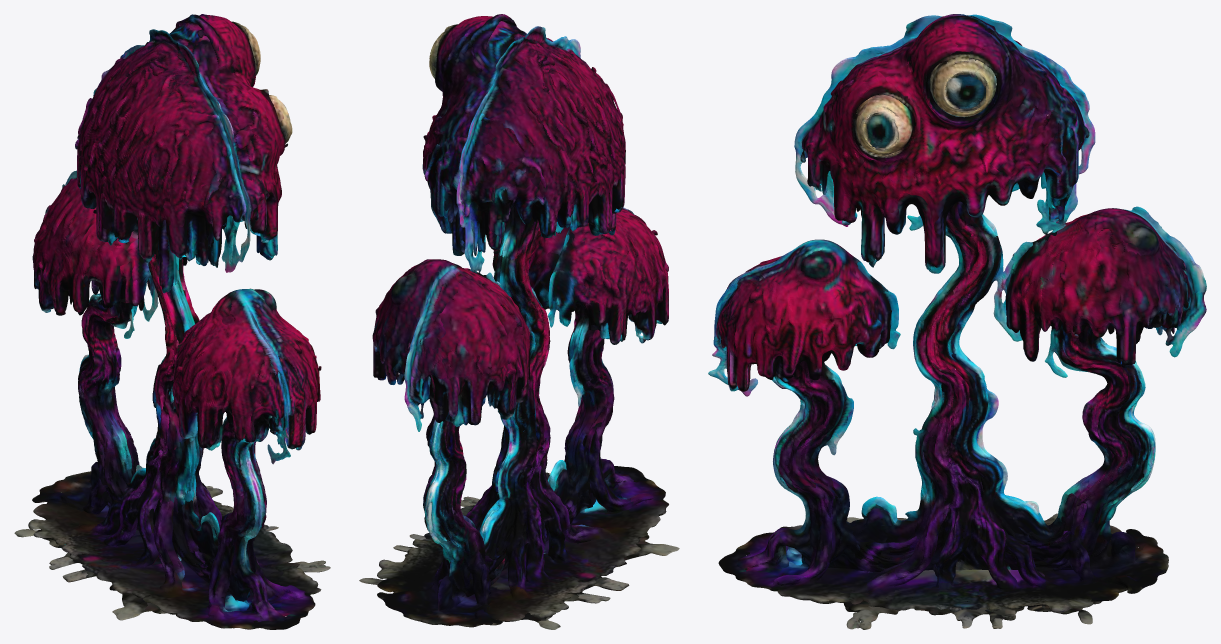
The model's file is Flora10.glb.
3 views of the same model, side by side, from view 1: azimuth 30°, elevation 25°; view 2: azimuth 150°, elevation 25°; view 3: azimuth 270°, elevation 25° (orthographic). The views are drawn at different scales.
Visible parts, largest first — view 1: tripo_node_c85ae31e-bc3e-499c-8eec-19c82629014d; view 2: tripo_node_c85ae31e-bc3e-499c-8eec-19c82629014d; view 3: tripo_node_c85ae31e-bc3e-499c-8eec-19c82629014d.
Part boxes in pixels (box(x1,y1,x2,y2)): tripo_node_c85ae31e-bc3e-499c-8eec-19c82629014d: box(14, 14, 330, 629); tripo_node_c85ae31e-bc3e-499c-8eec-19c82629014d: box(359, 14, 679, 629); tripo_node_c85ae31e-bc3e-499c-8eec-19c82629014d: box(708, 14, 1206, 629).
Bounding box in the file's own units: 0.4179 × 1 × 0.7802.
1 material, 1 textured.
